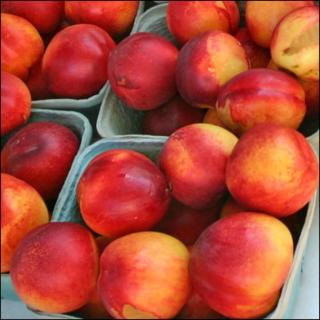Peach: (0, 0, 319, 319), (189, 210, 292, 318)
